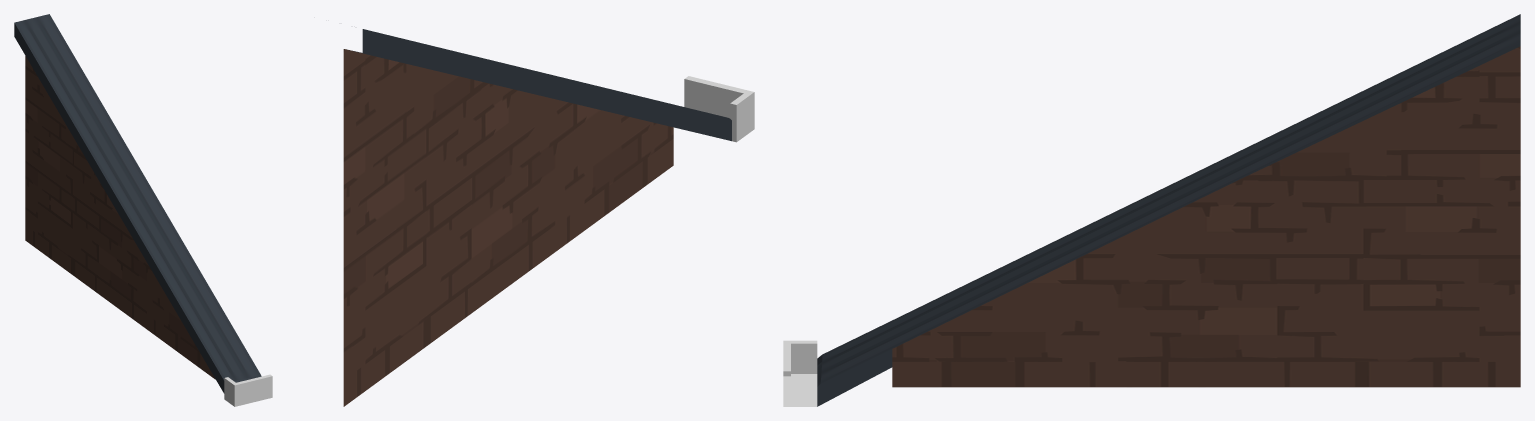
Rendered from Roof_side_type_1.fbx.
3 views of the same model, side by side, from view 1: azimuth 30°, elevation 25°; view 2: azimuth 150°, elevation 25°; view 3: azimuth 270°, elevation 25° (orthographic). The views are drawn at different scales.
Parts seen in each view (by area): view 1: Roof_side_type_1; view 2: Roof_side_type_1; view 3: Roof_side_type_1.
Part boxes in pixels (box(x1,y1,x2,y2)): Roof_side_type_1: box(14, 14, 272, 406); Roof_side_type_1: box(343, 29, 754, 406); Roof_side_type_1: box(783, 14, 1520, 406).
Size of the model in its own units: 31.13 by 173 by 317.
